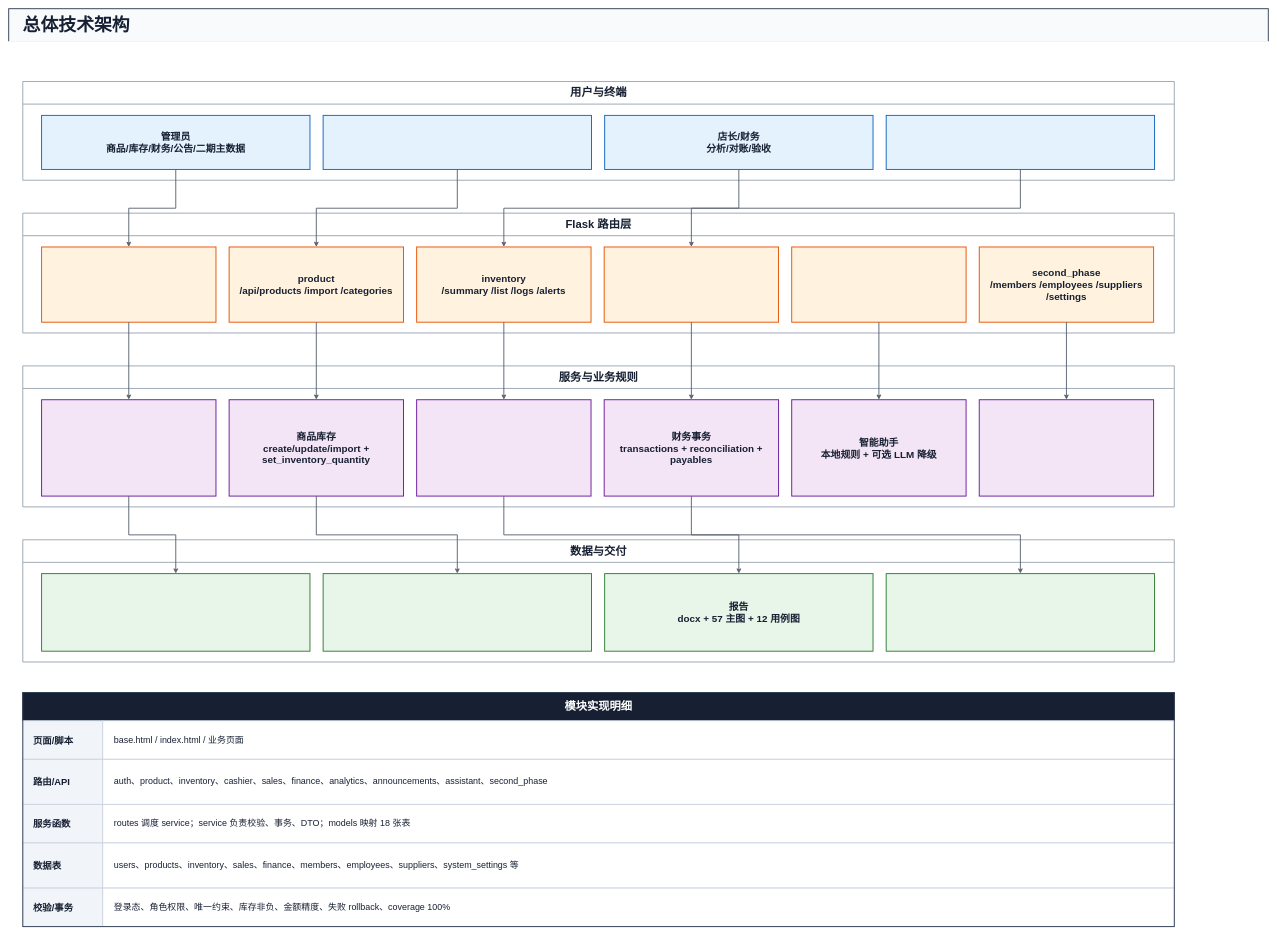
The diagram is 1277 pixels wide and 935 high, and some of its shapes have lost their labels. Here are the shapes that lost their labels. From the top down, the centre of each, then its label:
At (x=638, y=51): "架构图｜分层、模块、接口、数据表、权限边界".
At (x=457, y=142): "收银员 收银/销售/公告/助手".
At (x=1020, y=142): "浏览器 Jinja2 页面 + JS fetch".
At (x=128, y=284): "auth /login /register /logout".
At (x=691, y=284): "cashier/sales /checkout /orders /detail".
At (x=878, y=284): "finance /overview /reconciliation /payables".
At (x=128, y=447): "权限 login_required/admin_required".
At (x=503, y=447): "收银事务 sales + sale_items + inventory_logs".
At (x=1066, y=447): "测试 pytest + coverage 100%".
At (x=175, y=612): "SQLite schema.sql + seed_data.sql".
At (x=457, y=612): "18 张表 业务表、审计表、二期主数据".
At (x=1020, y=612): "可编辑图 中文 .drawio + PNG".
